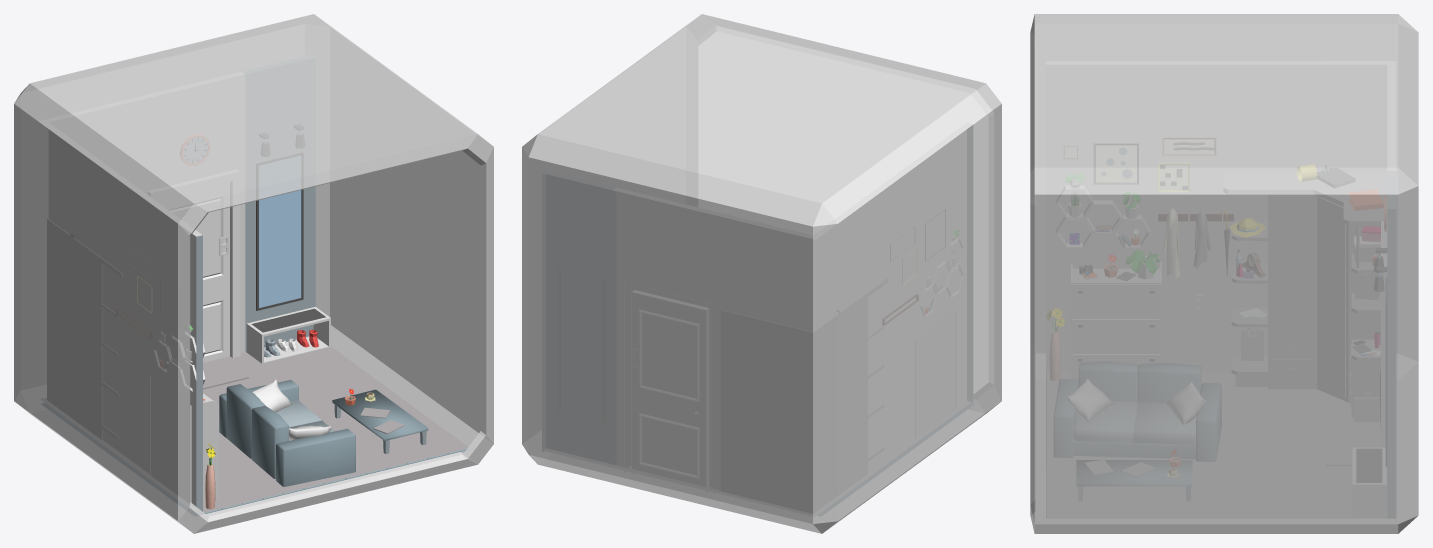
The model's file is livingroom.glb.
3 views of the same model, side by side, from view 1: azimuth 30°, elevation 25°; view 2: azimuth 150°, elevation 25°; view 3: azimuth 270°, elevation 25° (orthographic). The views are drawn at different scales.
Visible parts, largest first — view 1: Cube.006, low_poly_interior.8403; view 2: Cube.006, low_poly_interior.8403; view 3: Cube.006, low_poly_interior.8403.
Boxes of the visible parts, x1,y1,x2,y2 form: Cube.006: (14,14,493,533); low_poly_interior.8403: (39,55,468,515); Cube.006: (522,14,1001,533); low_poly_interior.8403: (542,123,973,516); Cube.006: (1030,14,1418,533); low_poly_interior.8403: (1046,61,1395,517).
Size of the model in its own units: 2 by 2 by 1.92.
Materials: 2 (1 with a texture image).
